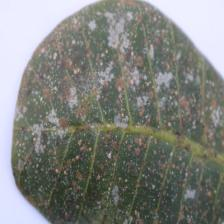red rust: (11, 0, 223, 223)
